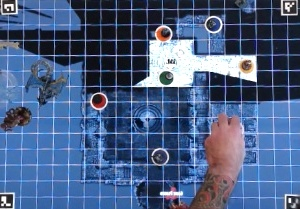blue: (206, 14, 225, 33)
green: (154, 67, 177, 85)
orange: (153, 24, 173, 42)
red: (88, 90, 108, 112)
violet: (151, 146, 171, 166)
yellow: (240, 54, 258, 74)
